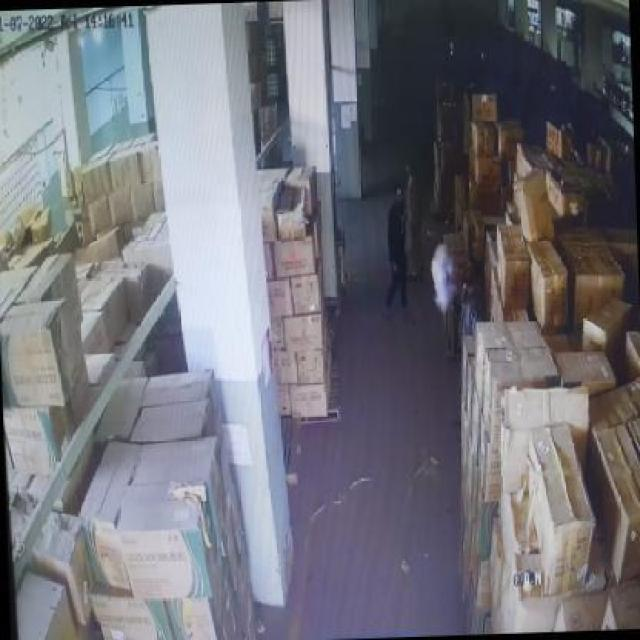fire: (428, 238, 459, 318)
